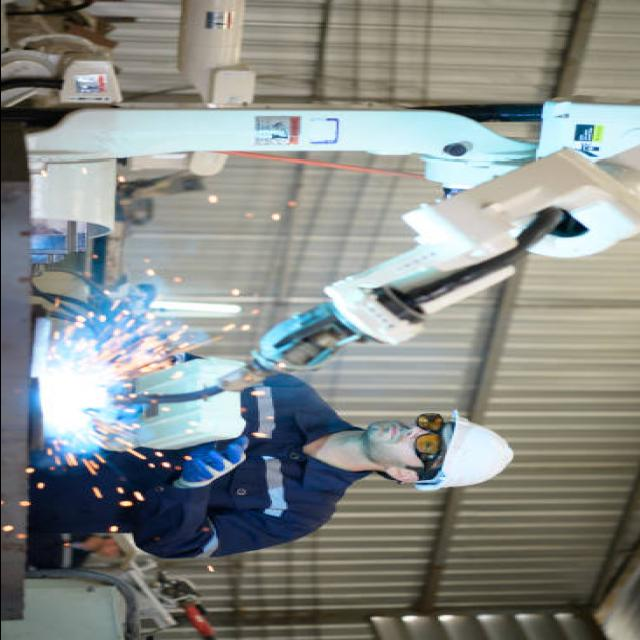Robotic-arm: (0, 86, 640, 379)
